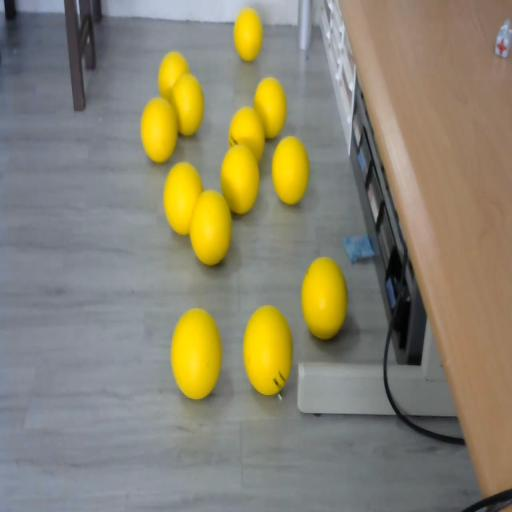FUEL: (170, 306, 223, 398), (242, 304, 294, 395), (300, 255, 348, 339), (189, 190, 232, 267), (220, 144, 260, 214), (271, 135, 310, 206), (140, 97, 178, 163), (171, 72, 205, 136), (254, 76, 288, 138), (234, 7, 263, 61)
